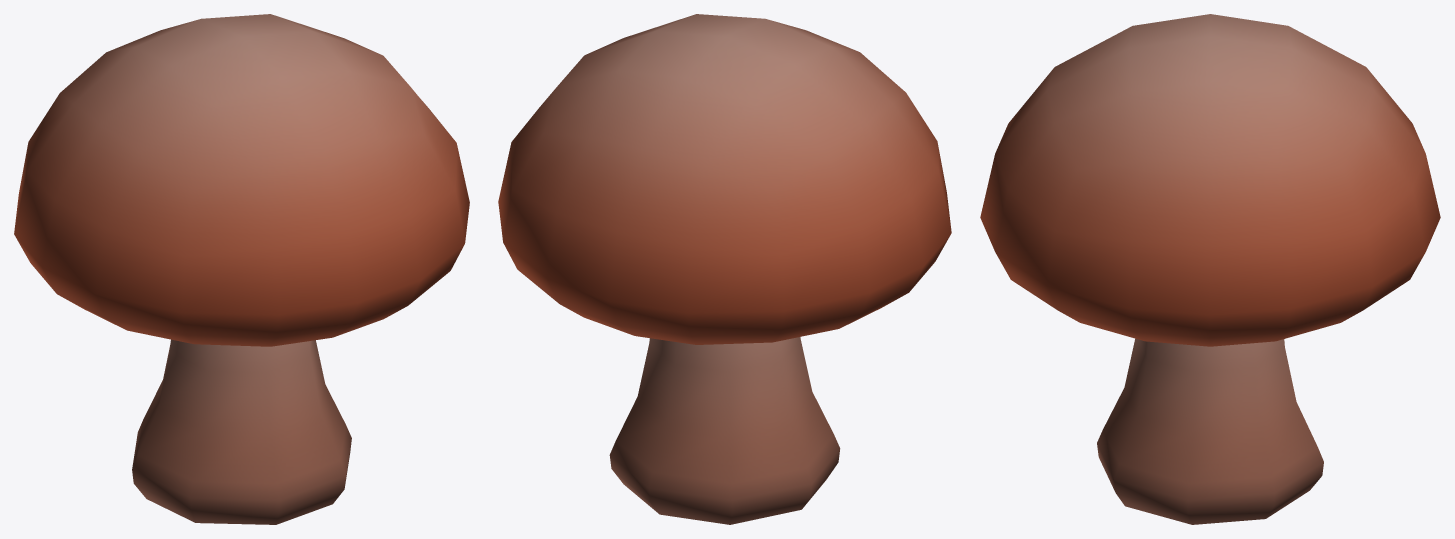
The model's file is mushroom_001.fbx.
3 views of the same model, side by side, from view 1: azimuth 30°, elevation 25°; view 2: azimuth 150°, elevation 25°; view 3: azimuth 270°, elevation 25° (orthographic).
Visible parts, largest first — view 1: mushroom_001; view 2: mushroom_001; view 3: mushroom_001.
Part boxes in pixels (left/top/right/bottom): mushroom_001: left=14, top=14, right=469, bottom=524; mushroom_001: left=498, top=14, right=951, bottom=524; mushroom_001: left=980, top=14, right=1440, bottom=524.
Size of the model in its own units: 6.31 by 6.31 by 6.84.
